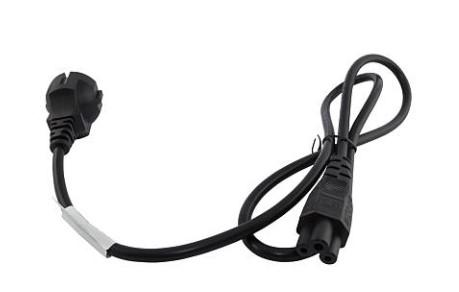cable: (46, 54, 412, 264)
